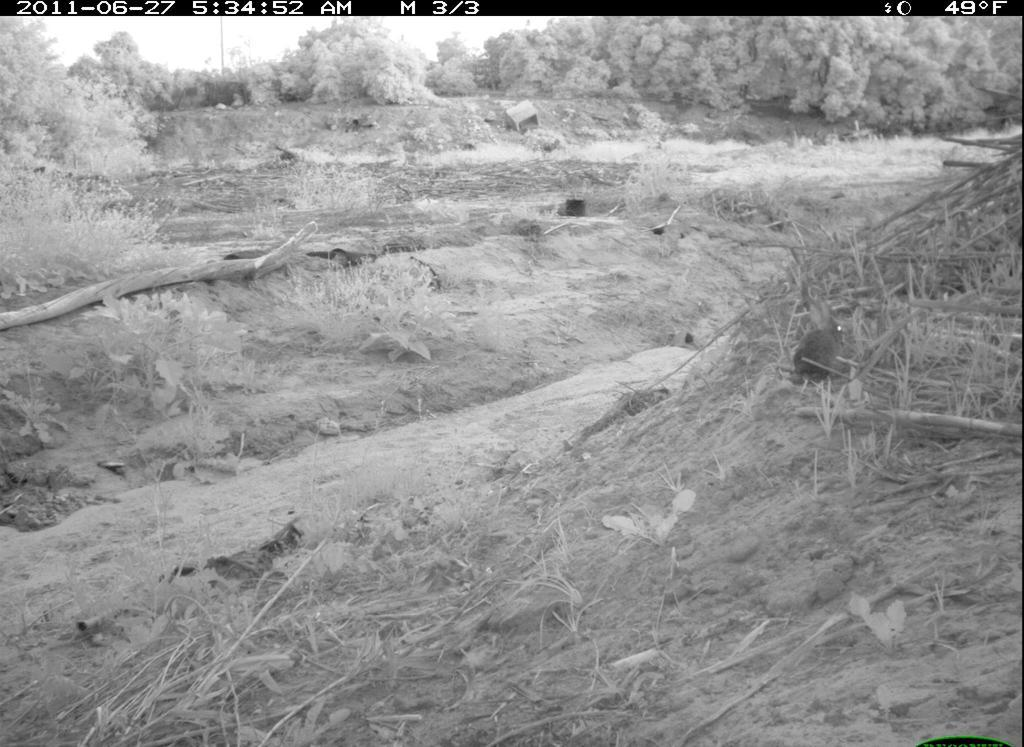rabbit: (790, 294, 853, 386)
